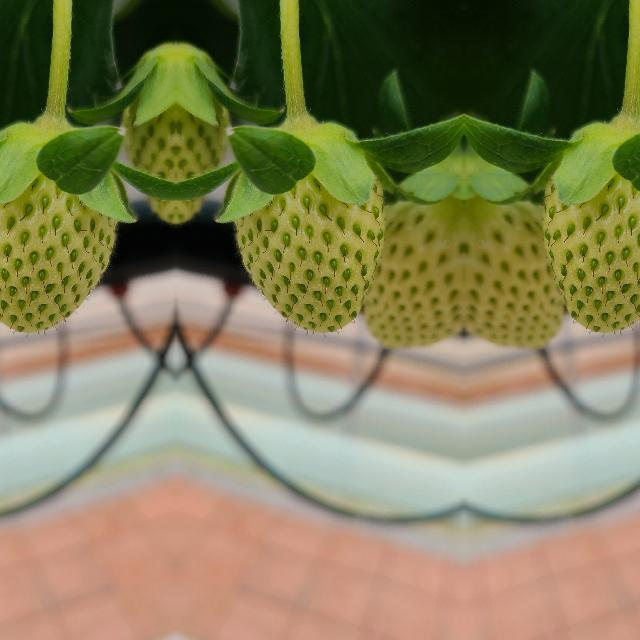Health_25: (235, 176, 383, 332), (352, 176, 462, 350), (464, 176, 574, 350), (0, 176, 115, 331), (543, 176, 640, 331), (174, 79, 230, 227), (120, 79, 176, 227)
